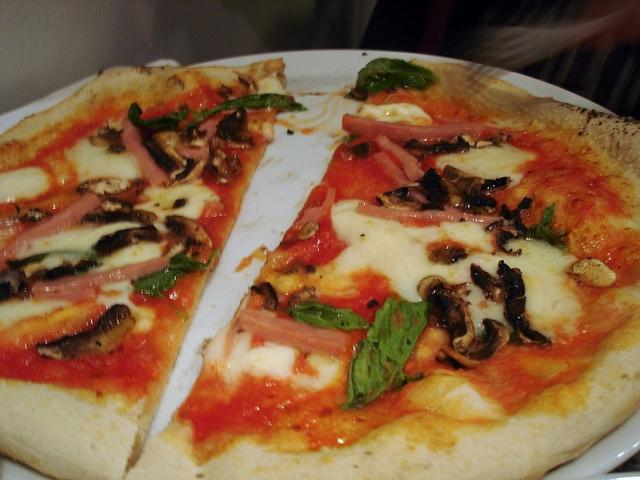mushroom: (36, 304, 136, 361), (498, 260, 552, 346), (442, 318, 510, 368), (428, 292, 474, 356), (142, 129, 188, 181), (91, 225, 161, 257), (442, 165, 511, 194), (212, 106, 255, 149), (165, 214, 213, 249), (567, 257, 617, 289), (31, 259, 98, 281), (81, 208, 158, 226), (470, 263, 504, 303), (89, 120, 127, 154), (414, 168, 450, 202), (402, 136, 470, 154), (490, 224, 524, 257), (212, 150, 242, 184), (76, 179, 132, 196), (173, 159, 206, 187), (498, 204, 528, 234), (0, 269, 26, 301), (9, 204, 54, 222), (428, 245, 468, 265), (250, 282, 278, 310), (461, 191, 496, 212), (394, 187, 432, 204)
